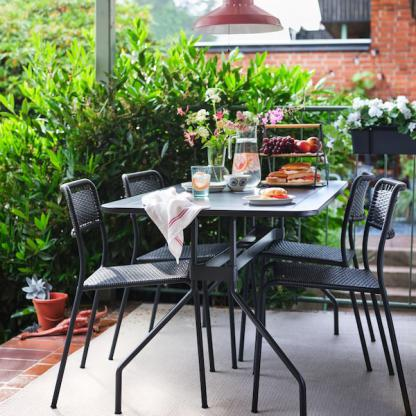table: (84, 155, 352, 416)
